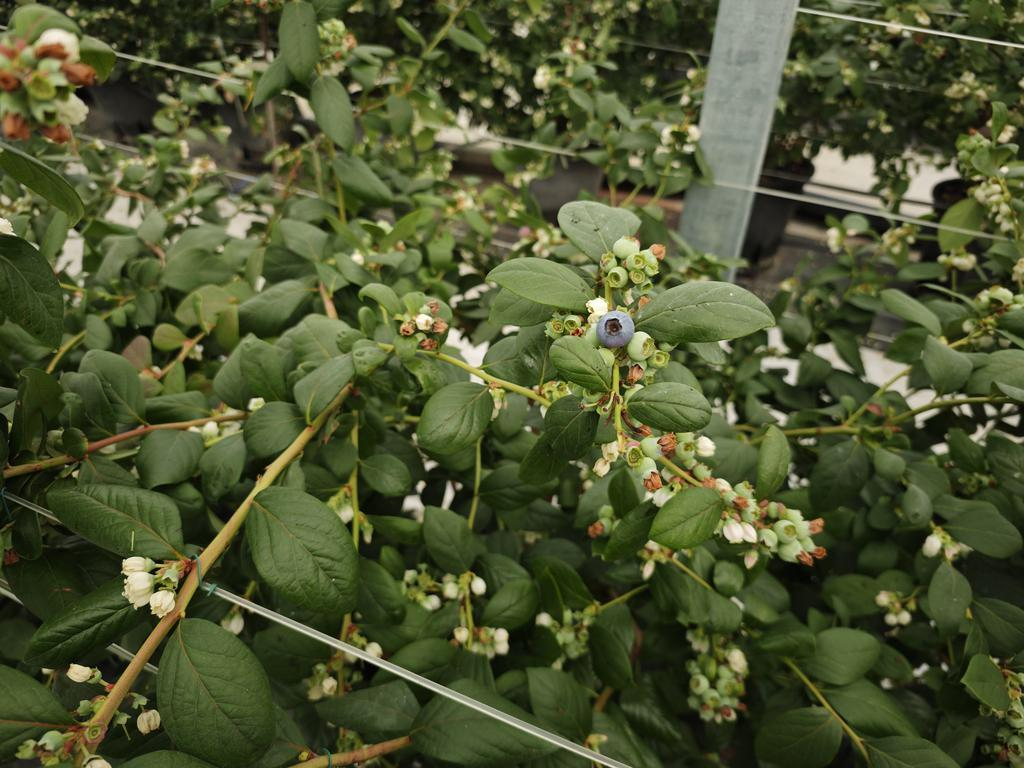RipeBlueBerry: (595, 309, 636, 350)
